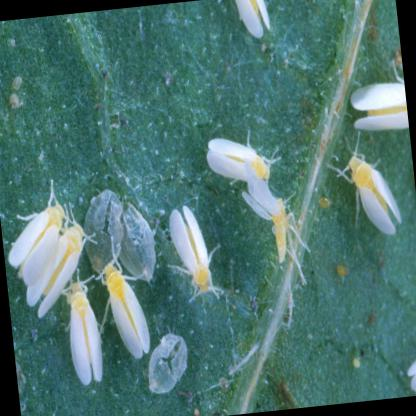whitefly: (26, 220, 85, 317), (9, 201, 63, 283), (167, 205, 213, 295), (104, 265, 149, 357), (348, 156, 400, 233), (67, 278, 102, 385), (205, 139, 270, 182)
